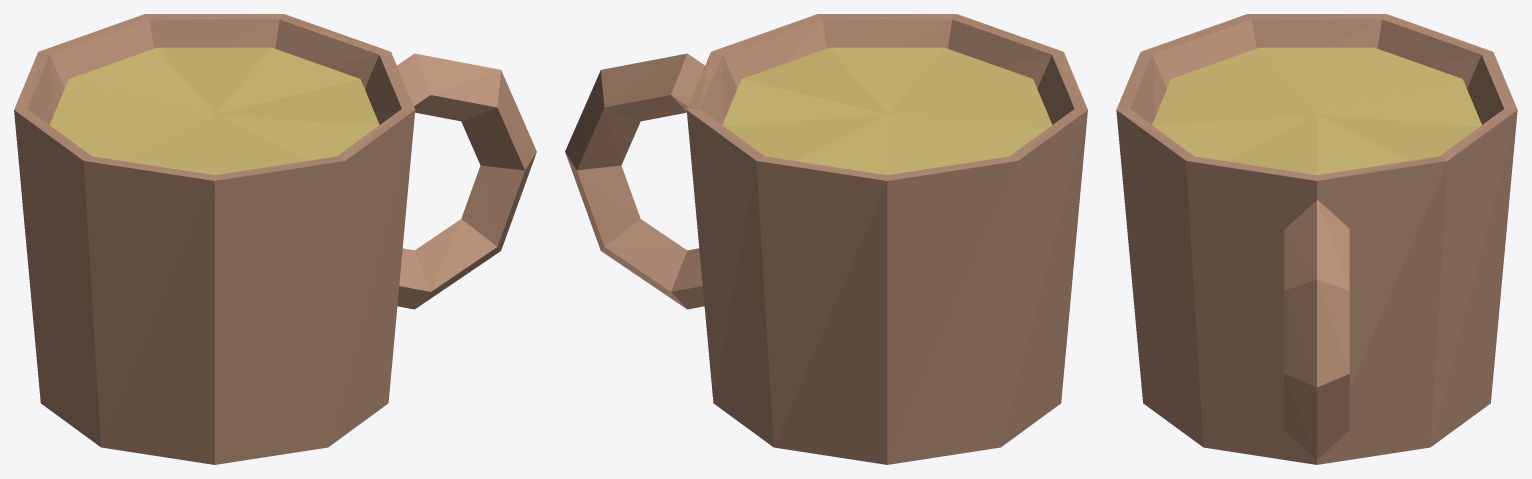
File: mug.glb
3 views of the same model, side by side, from view 1: azimuth 30°, elevation 25°; view 2: azimuth 150°, elevation 25°; view 3: azimuth 270°, elevation 25° (orthographic).
Visible parts, largest first — view 1: mug; view 2: mug; view 3: mug.
Boxes of the visible parts, x1,y1,x2,y2 form: mug: (14, 14, 536, 464); mug: (565, 14, 1087, 464); mug: (1116, 14, 1517, 464).
Bounding box in the file's own units: 0.2075 × 0.12 × 0.1477.
